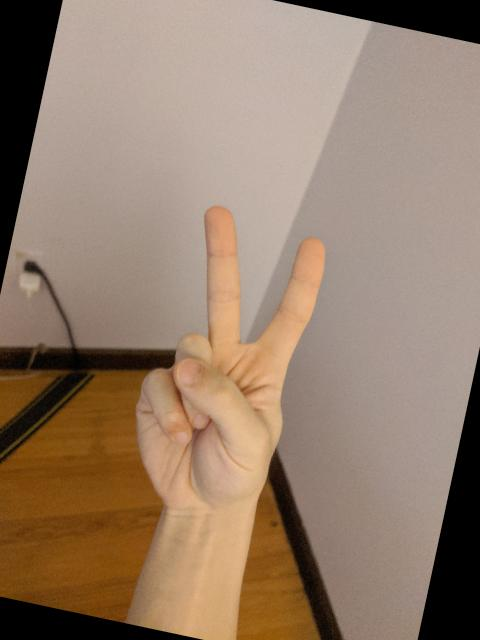V: (112, 192, 338, 532)
